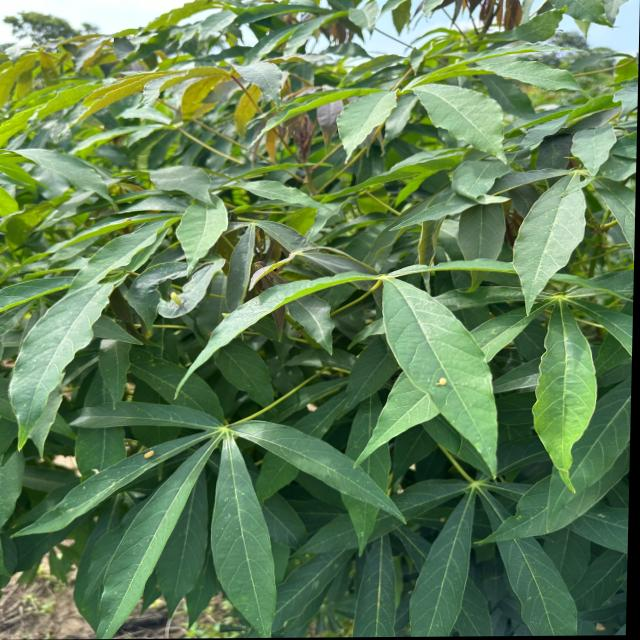Mosca: (162, 277, 191, 309), (138, 440, 159, 463), (430, 371, 453, 391), (591, 501, 610, 525), (304, 394, 323, 416)
